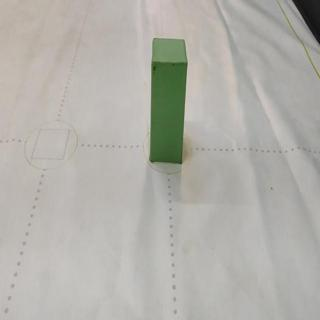greenbox: (148, 35, 189, 164)
